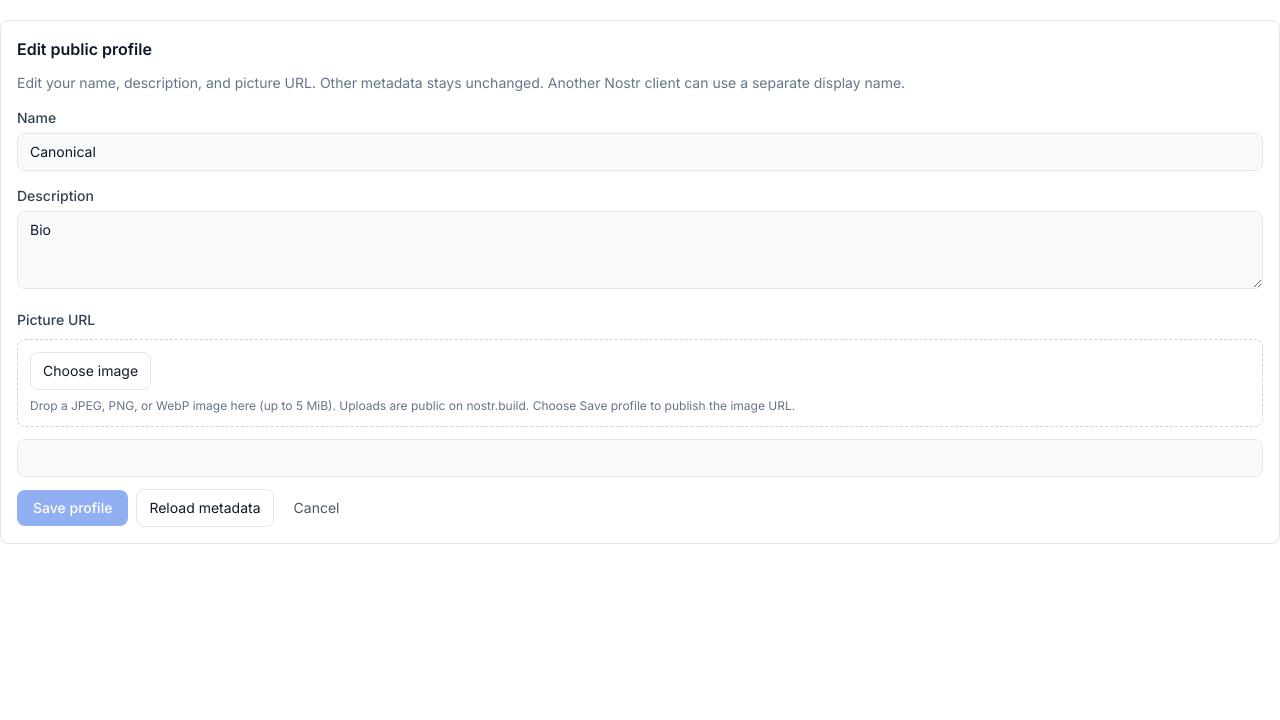
it: Nostr profile editor › loads canonical fields and supplies only changed fields, including explicit empty clears
Expected: the field labelled "Name" holds "Canonical", x1=17 y1=133 x2=1263 y2=171
Expected: the field labelled "Picture URL" is empty, x1=17 y1=439 x2=1263 y2=477
Clear the text box labelled "Description": (640, 250) x1=17 y1=211 x2=1263 y2=289
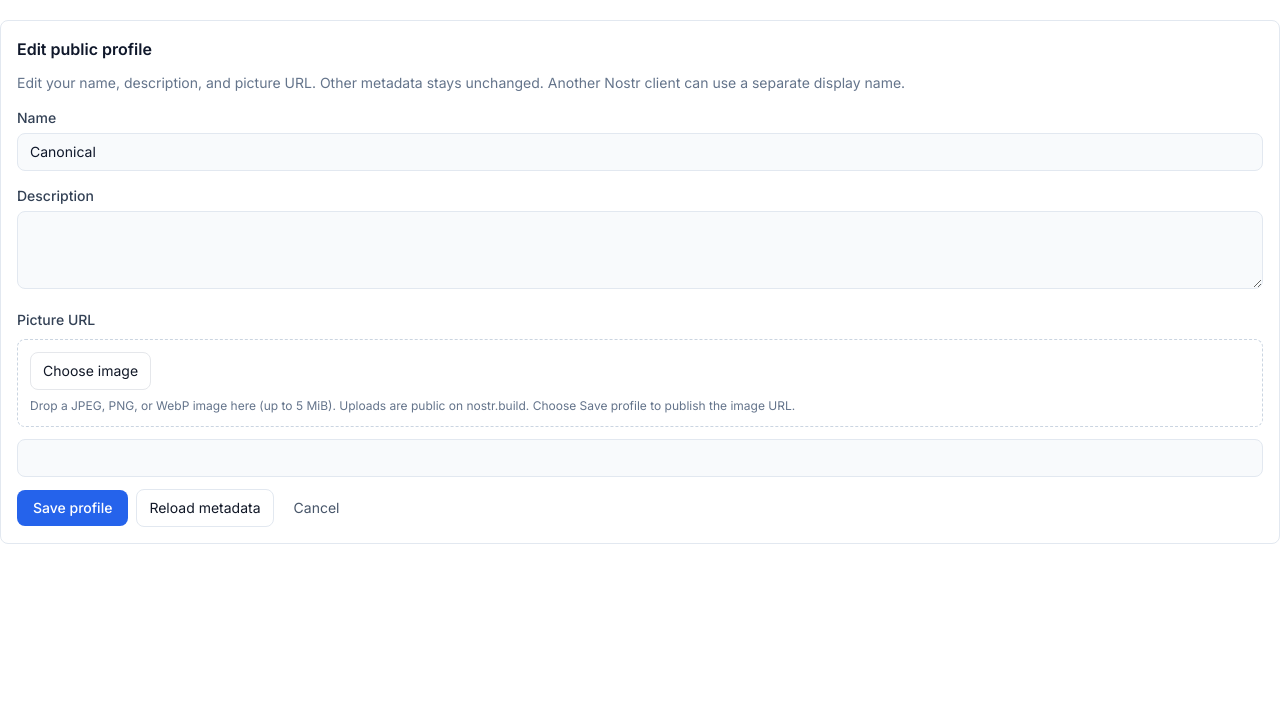
Click the button "Save profile": (73, 508) x1=17 y1=490 x2=128 y2=526
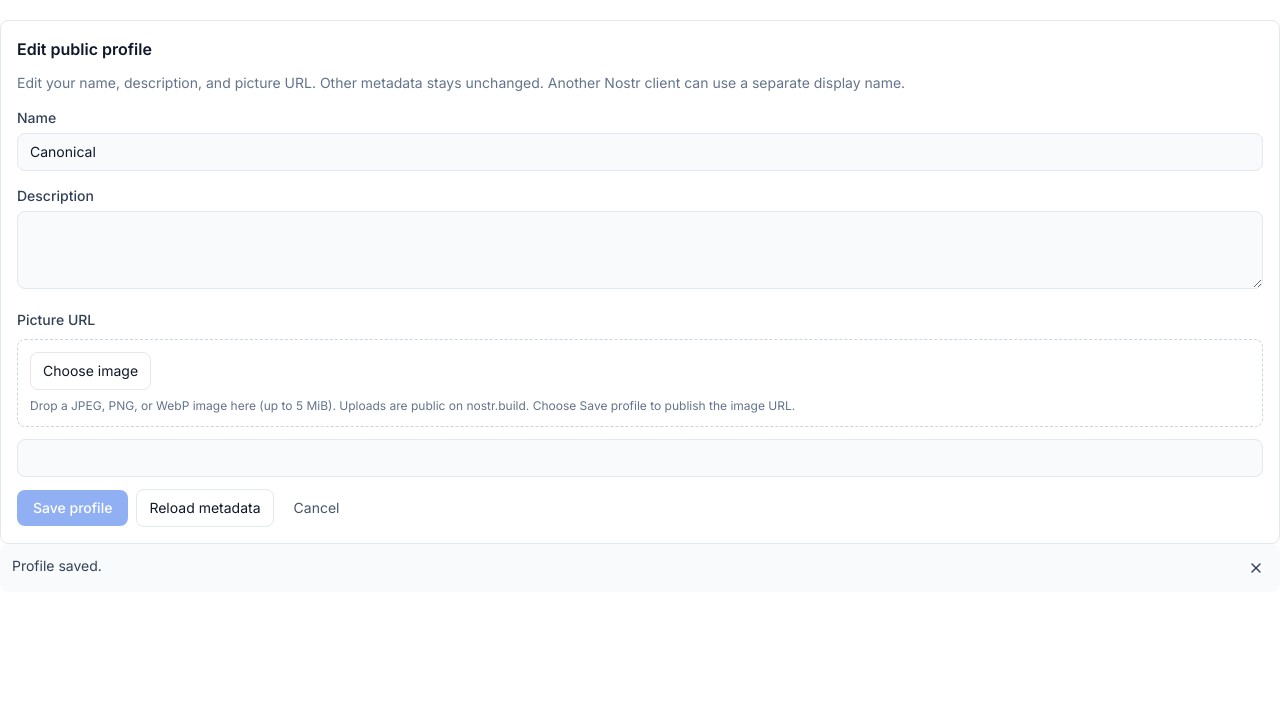
Expected: the message with test id "nostr-profile-result" does not show "Accepted:", x1=0 y1=544 x2=1279 y2=592
Expected: the text "Profile saved." is shown, x1=12 y1=557 x2=102 y2=574
Expected: the button "Save profile" is disabled, x1=17 y1=490 x2=128 y2=526
